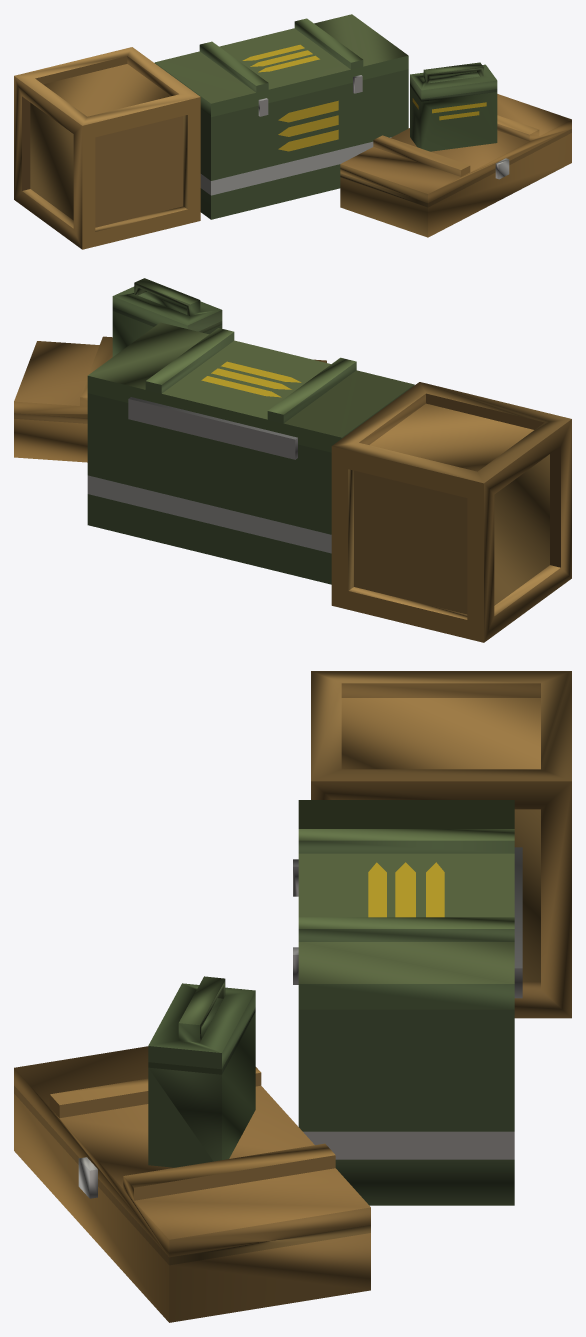
File: apoc_prop_96.glb
The picture shows the model from 3 angles, top to bottom: view 1: azimuth 30°, elevation 25°; view 2: azimuth 150°, elevation 25°; view 3: azimuth 270°, elevation 25°; orthographic projection. The views are drawn at different scales.
Visible parts, largest first — view 1: prop_098; view 2: prop_098; view 3: prop_098.
Boxes of the visible parts, bbox=[...] form: prop_098: bbox=[14, 14, 571, 249]; prop_098: bbox=[14, 278, 571, 642]; prop_098: bbox=[14, 671, 571, 1322].
Size of the model in its own units: 0.7019 by 0.1846 by 0.3923.
Materials: 1 (1 with a texture image).
